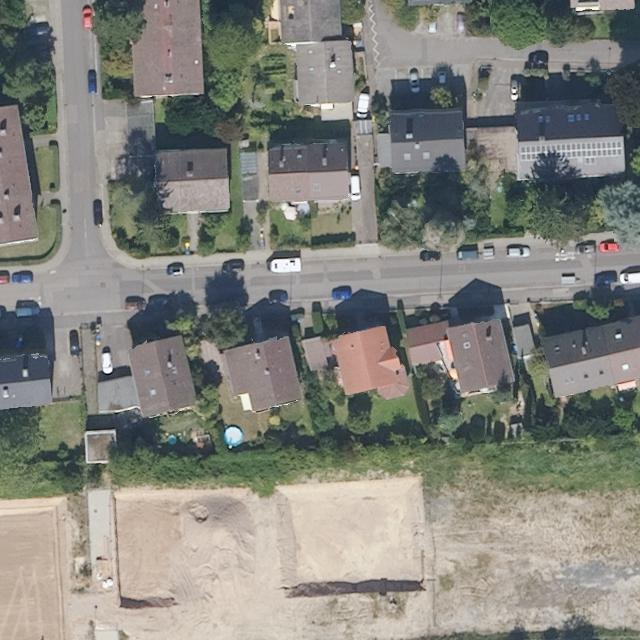PV: (516, 139, 625, 169)
